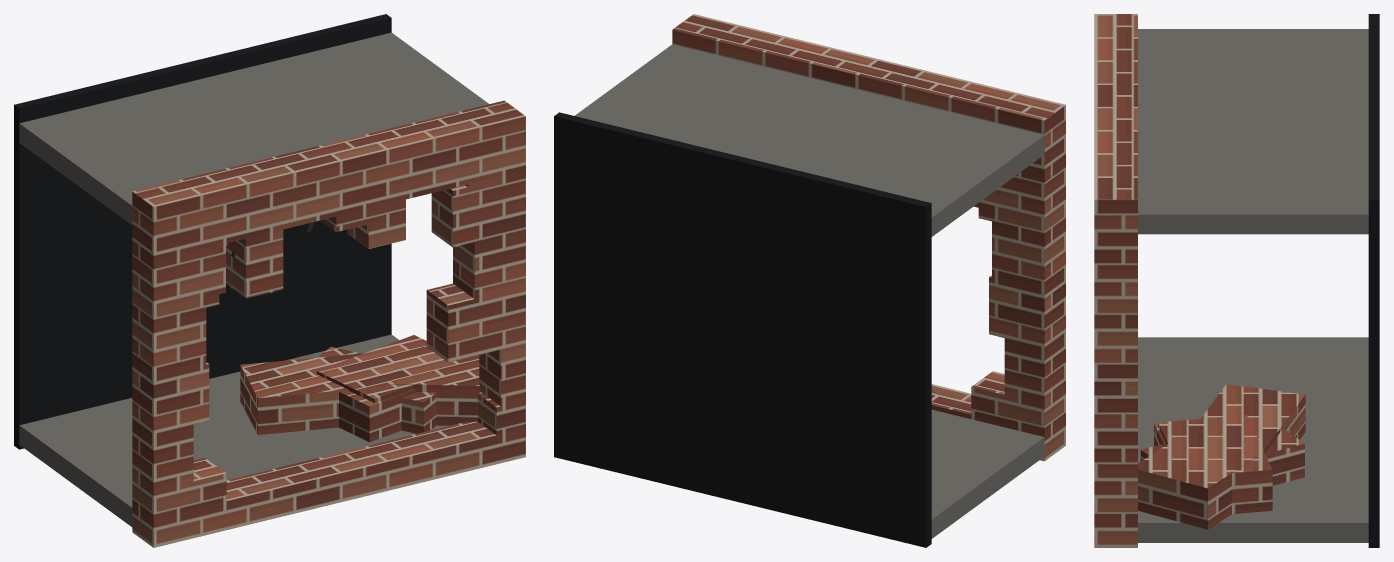
File: ct_hole.glb
The picture shows the model from 3 angles, left to right: view 1: azimuth 30°, elevation 25°; view 2: azimuth 150°, elevation 25°; view 3: azimuth 270°, elevation 25°; orthographic projection. The views are drawn at different scales.
Visible parts, largest first — view 1: city_ct_hole; view 2: city_ct_hole; view 3: city_ct_hole.
Boxes of the visible parts, x1,y1,x2,y2 form: city_ct_hole: [14, 14, 525, 547]; city_ct_hole: [554, 14, 1065, 547]; city_ct_hole: [1094, 14, 1379, 547].
Bounding box in the file's own units: 4.15 × 3.5 × 2.6.
Materials: 3 (3 with a texture image).
